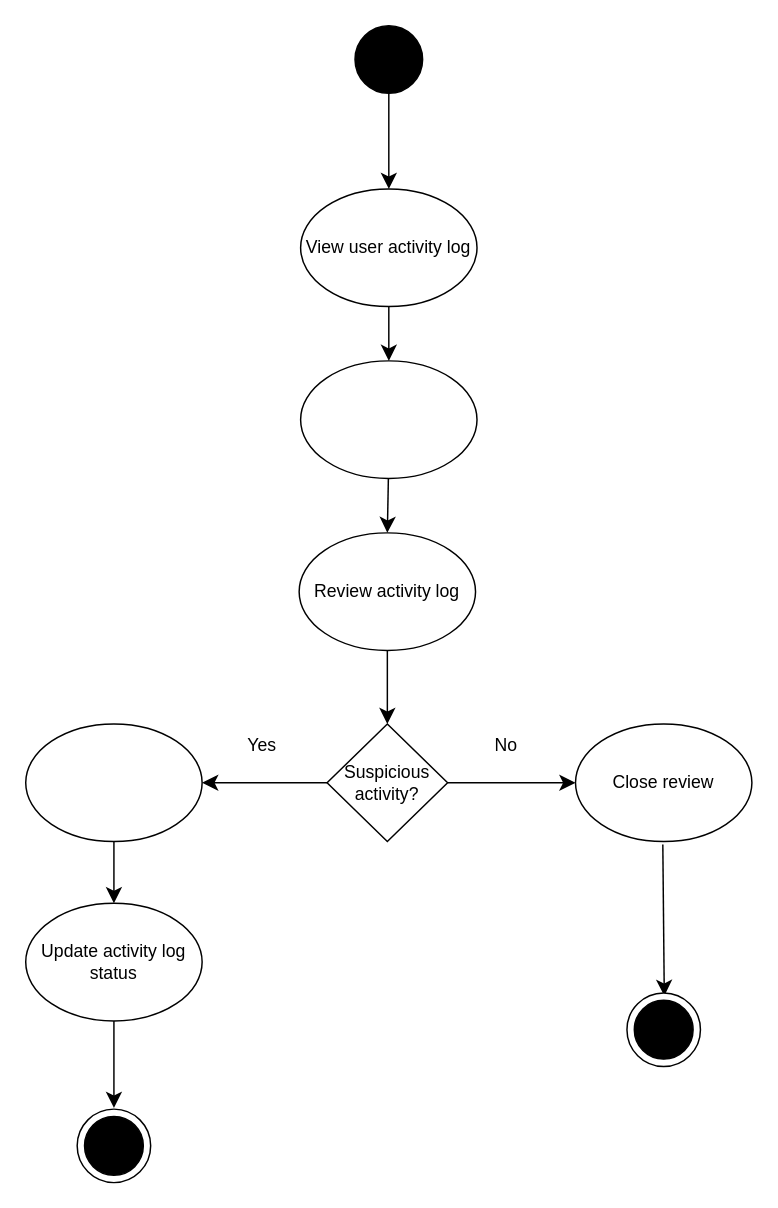
This 778x1208 diagram has some shape labels left out. The shapes that lost their labels are listed below. From the top down, each one's centre as x and y in pixels, then its label:
At point 388,418: "select/ filter by user or action".
At point 113,782: "Flag account action log".
